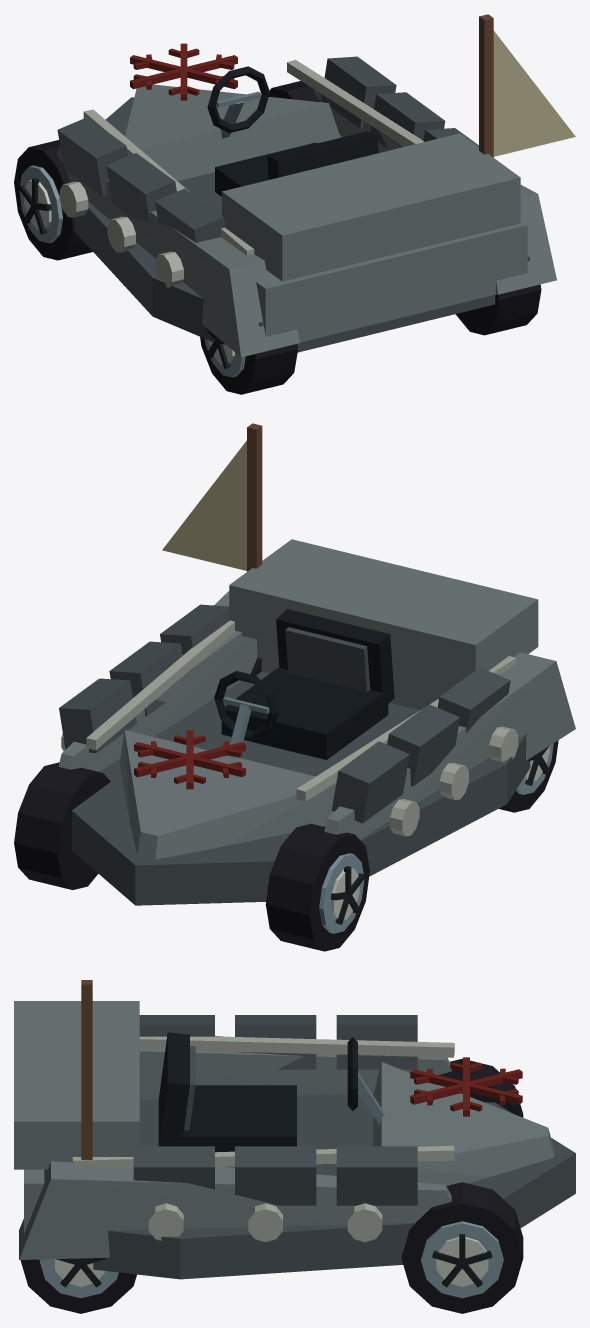
File: kart.glb
The picture shows the model from 3 angles, top to bottom: view 1: azimuth 30°, elevation 25°; view 2: azimuth 150°, elevation 25°; view 3: azimuth 270°, elevation 25°; orthographic projection. The views are drawn at different scales.
Visible parts, largest first — view 1: identity-ship-ship-pointed-bow-and-raised-stern, identity-ship-motif-armor, identity-ship-motif-sail, identity-ship-driver-cockpit, wheel-front-left, wheel-rear-left, identity-ship-motif-snow, wheel-rear-right, wheel-front-right; view 2: identity-ship-ship-pointed-bow-and-raised-stern, identity-ship-driver-cockpit, identity-ship-motif-armor, wheel-front-left, identity-ship-motif-sail, wheel-front-right, identity-ship-motif-snow, wheel-rear-left; view 3: identity-ship-ship-pointed-bow-and-raised-stern, identity-ship-motif-armor, wheel-front-right, identity-ship-driver-cockpit, wheel-rear-right, identity-ship-motif-snow, identity-ship-motif-sail, wheel-front-left.
Part boxes in pixels (box(x1,y1,x2,y2)): identity-ship-ship-pointed-bow-and-raised-stern: box(57, 59, 556, 357); identity-ship-motif-armor: box(57, 56, 493, 242); identity-ship-motif-sail: box(479, 14, 575, 157); identity-ship-driver-cockpit: box(207, 66, 378, 196); wheel-front-left: box(14, 140, 92, 260); wheel-rear-left: box(200, 327, 297, 394); identity-ship-motif-snow: box(130, 43, 237, 100); wheel-rear-right: box(455, 284, 541, 335); wheel-front-right: box(268, 81, 320, 102); identity-ship-ship-pointed-bow-and-raised-stern: box(58, 539, 575, 905); identity-ship-driver-cockpit: box(214, 609, 394, 759); identity-ship-motif-armor: box(59, 604, 510, 823); wheel-front-left: box(265, 823, 369, 951); identity-ship-motif-sail: box(162, 423, 262, 571); wheel-front-right: box(14, 762, 110, 889); identity-ship-motif-snow: box(134, 730, 245, 789); wheel-rear-left: box(498, 740, 558, 812); identity-ship-ship-pointed-bow-and-raised-stern: box(14, 1001, 575, 1279); identity-ship-motif-armor: box(133, 1015, 417, 1205); wheel-front-right: box(401, 1182, 523, 1313); identity-ship-driver-cockpit: box(158, 1032, 384, 1152); wheel-rear-right: box(20, 1258, 136, 1313); identity-ship-motif-snow: box(410, 1057, 522, 1116); identity-ship-motif-sail: box(81, 980, 92, 1159); wheel-front-left: box(438, 1058, 523, 1117).
Bounding box in the file's own units: 2.24 × 1.74 × 2.77.
